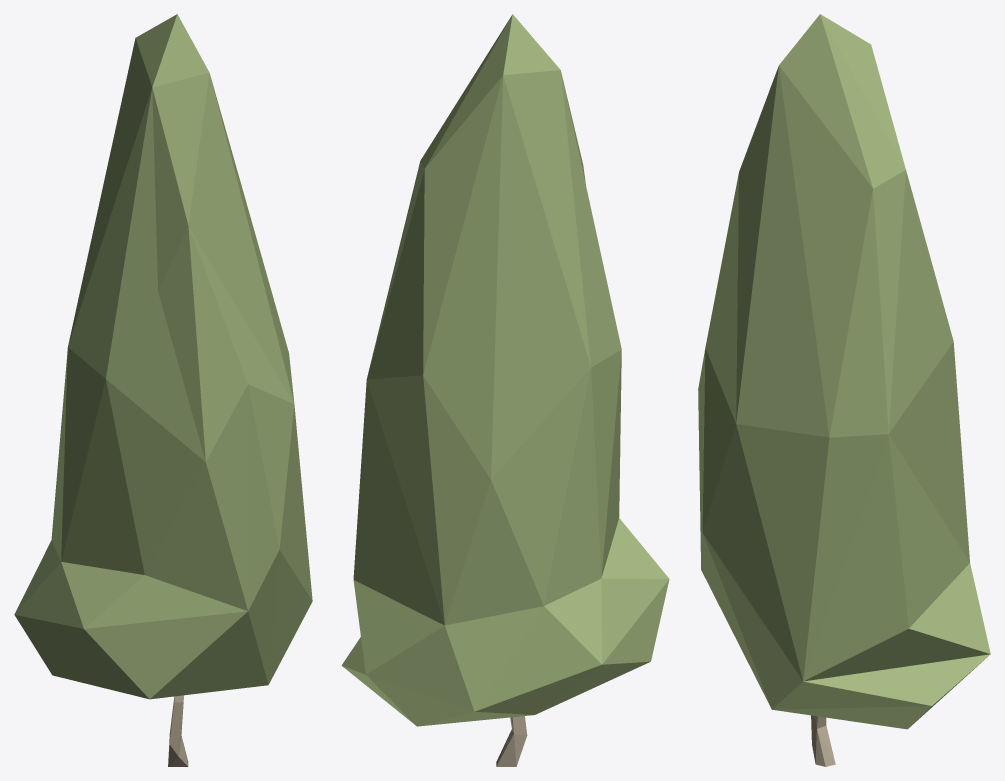
File: LaurusNobilis.glb
3 renders of one model, left to right at view 1: azimuth 30°, elevation 25°; view 2: azimuth 150°, elevation 25°; view 3: azimuth 270°, elevation 25°, orthographic.
Visible parts, largest first — view 1: Crown, Trunk; view 2: Crown, Trunk; view 3: Crown, Trunk.
Part boxes in pixels (bbox=[...]): Crown: bbox=[14, 14, 312, 699]; Trunk: bbox=[168, 695, 188, 766]; Crown: bbox=[341, 14, 669, 726]; Trunk: bbox=[496, 716, 527, 766]; Crown: bbox=[698, 14, 990, 729]; Trunk: bbox=[811, 715, 835, 766].
Bounding box in the file's own units: 1.53 × 4.25 × 1.51.
